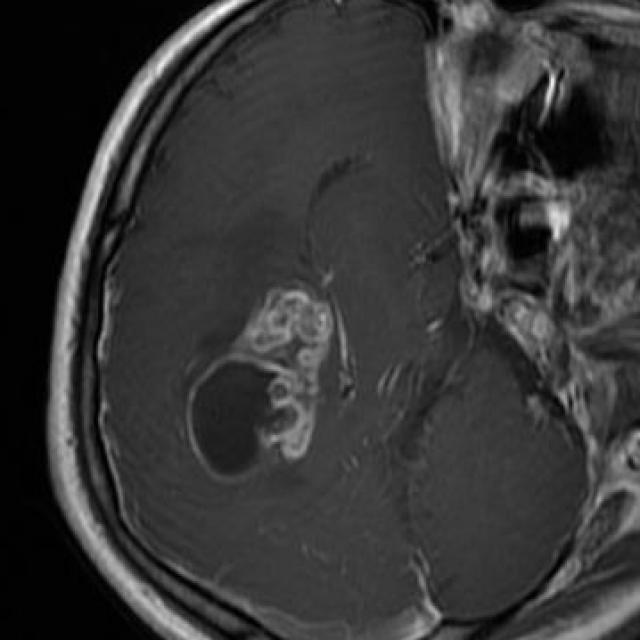glioma: (189, 287, 357, 480)
